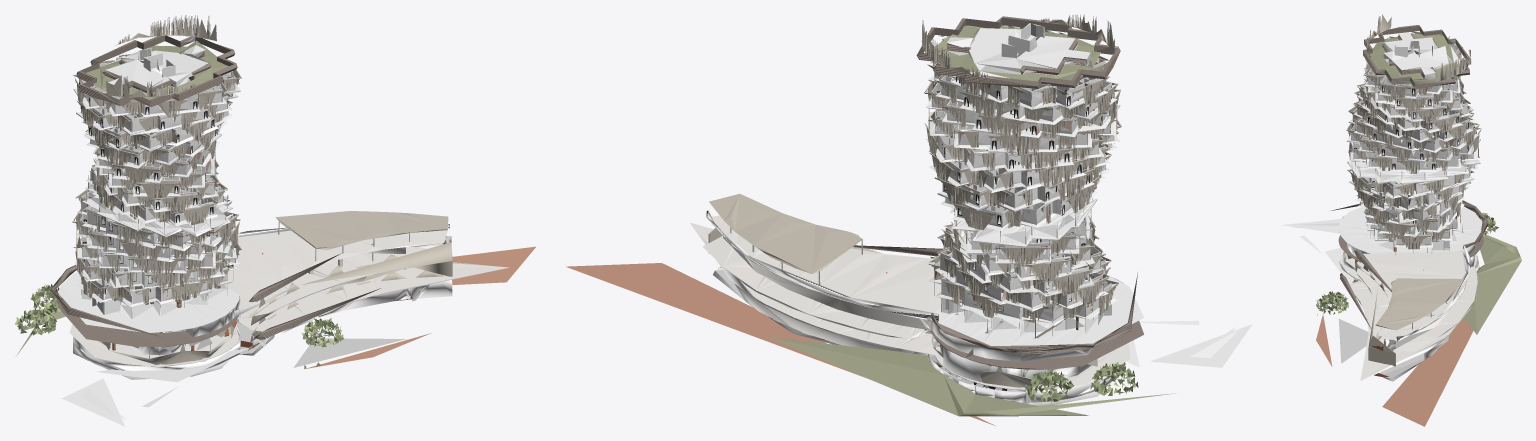
File: step-by-step.glb
3 renders of one model, left to right at view 1: azimuth 30°, elevation 25°; view 2: azimuth 150°, elevation 25°; view 3: azimuth 270°, elevation 25°, orthographic. The views are drawn at different scales.
Visible parts, largest first — view 1: G-Object.061; view 2: G-Object.061; view 3: G-Object.061.
Boxes of the visible parts, x1,y1,x2,y2 form: G-Object.061: (14,15,535,426); G-Object.061: (566,14,1252,426); G-Object.061: (1282,14,1521,426).
Bounding box in the file's own units: 133 × 75.38 × 65.88.
Materials: 2 (2 with a texture image).
